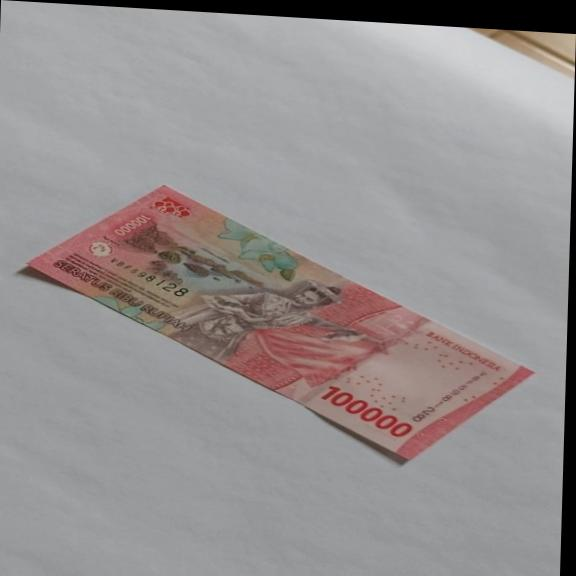Kertas: (316, 384, 415, 438)
